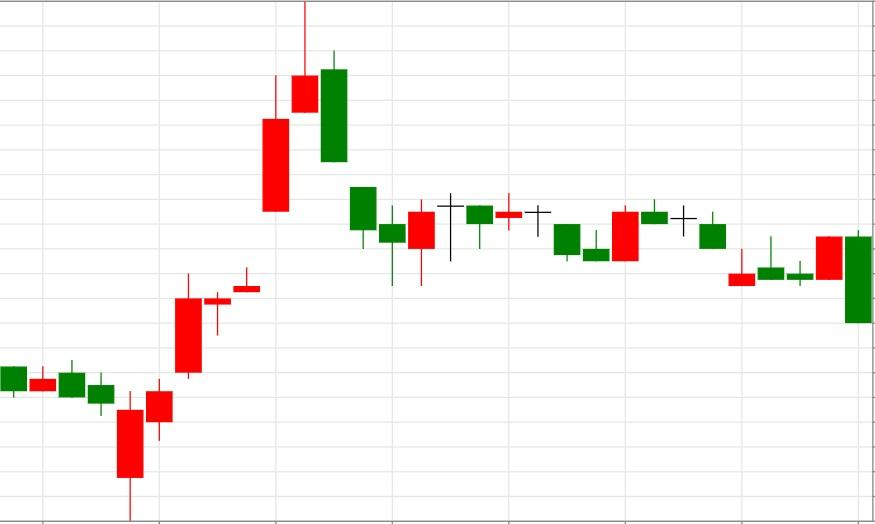bullish_engulfing_rise: (436, 192, 640, 263)
shooting_star_fall: (116, 0, 319, 522)
